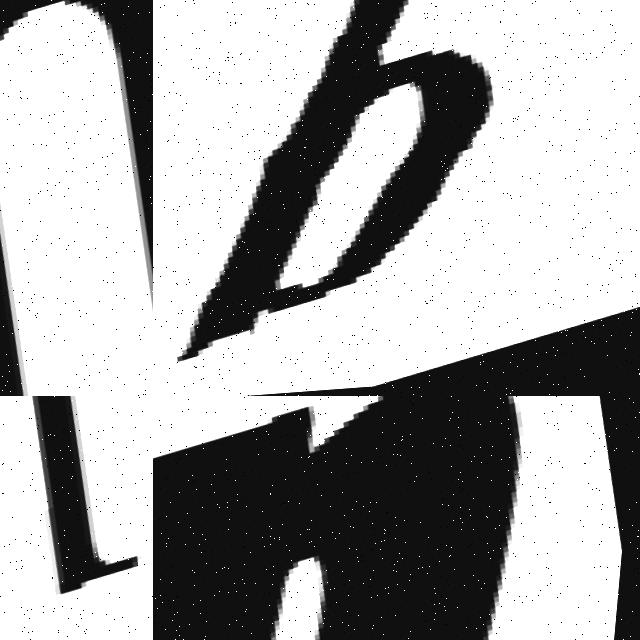J: (0, 396, 153, 640)
Q: (153, 0, 640, 386)
U: (153, 396, 603, 640), (0, 0, 153, 396)
